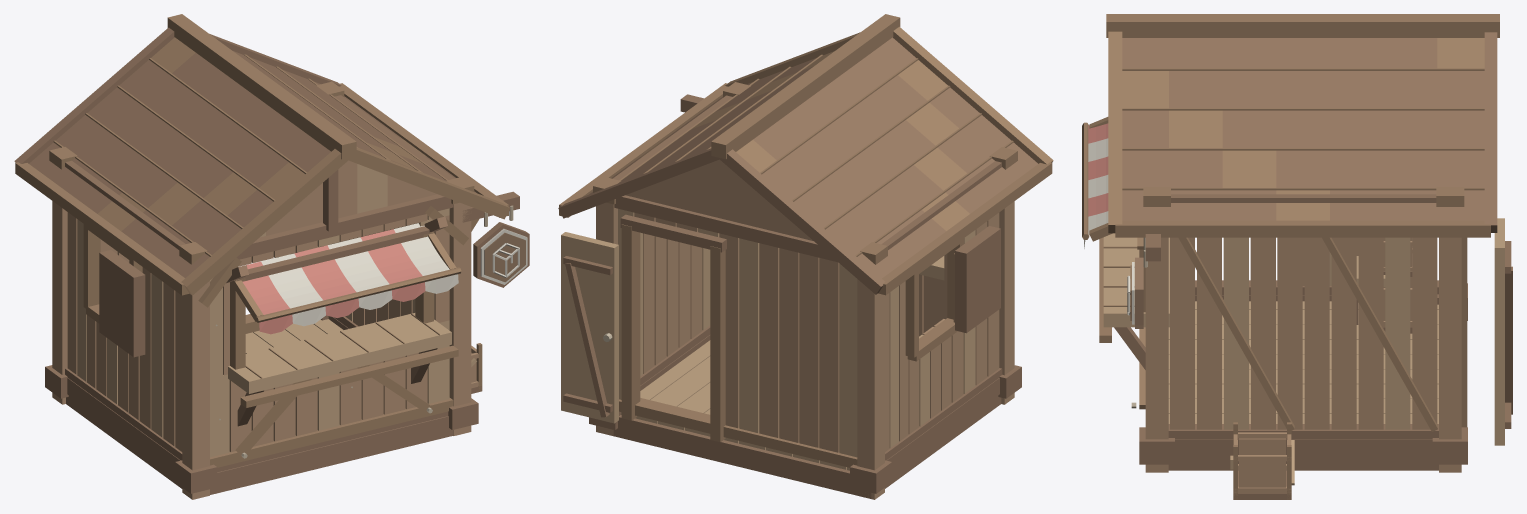
The model's file is port-trade-n2-candidate-v1.glb.
3 renders of one model, left to right at view 1: azimuth 30°, elevation 25°; view 2: azimuth 150°, elevation 25°; view 3: azimuth 270°, elevation 25°, orthographic. The views are drawn at different scales.
Visible parts, largest first — view 1: walls, roof, counter, awning, floor, sign, crates; view 2: walls, roof, door, floor; view 3: roof, walls, floor, door, crates, counter, awning, sign.
Part boxes in pixels (x1,y1,x2,y2): walls: (45, 81, 478, 499); roof: (14, 14, 509, 295); counter: (228, 313, 458, 458); awning: (230, 223, 461, 334); floor: (66, 316, 453, 494); sign: (462, 191, 529, 287); crates: (471, 343, 482, 393); walls: (589, 82, 1021, 499); roof: (558, 14, 1053, 295); door: (561, 214, 726, 442); floor: (613, 335, 1001, 498); roof: (1106, 14, 1499, 237); walls: (1137, 187, 1467, 472); floor: (1168, 295, 1438, 470); door: (1461, 218, 1512, 445); crates: (1230, 237, 1412, 499); counter: (1099, 233, 1385, 409); awning: (1082, 117, 1112, 248); sign: (1127, 234, 1160, 328).
Bounding box in the file's own units: 3.66 × 3.29 × 3.39.
